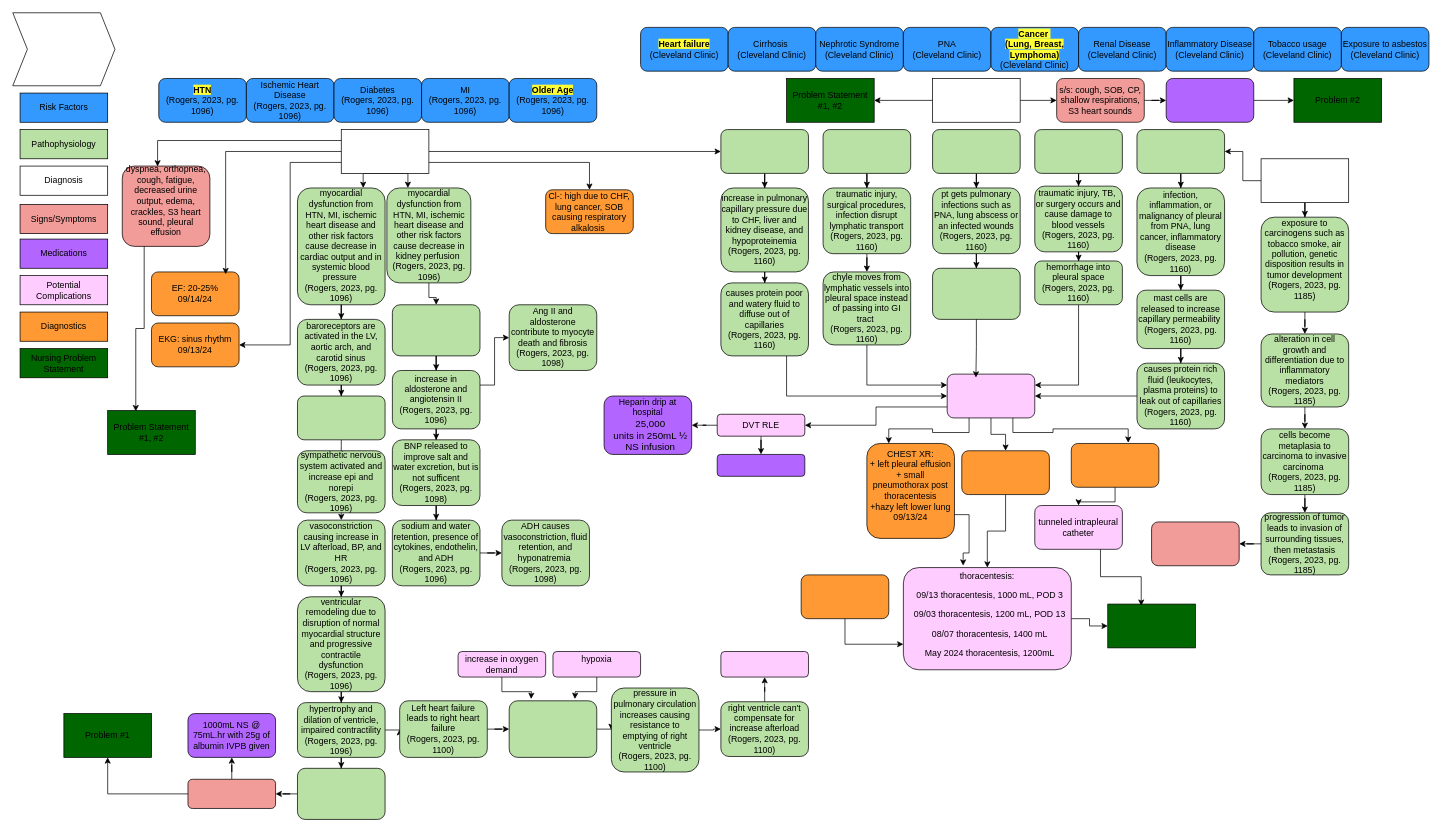
This 1442x833 diagram has some shape labels left out. Each missing label, with the box of its shape:
ADENOCARCINOMA (non-small cell carcinoma): (1260, 158, 1349, 203)
blood / hemothorax (Rogers, 2023, pg. 1160): (1034, 129, 1122, 173)
BP: 94/62: (187, 779, 276, 808)
CHEST XR: +pneumothorax 09/14/24: (961, 450, 1049, 495)
CHEST XR: moderate left pleural effusion 09/16/24: (1071, 443, 1159, 487)
CHF: (341, 129, 429, 173)
chyle / chylothorax (Rogers, 2023, pg. 1160): (822, 129, 911, 173)
debris in infection accumulate in pleural space (Rogers, 2023, pg. 1160): (932, 268, 1020, 319)
decrease cardiac output and perfusion to tissues (Rogers, 2023, pg. 1098): (297, 768, 385, 819)
Eliquis at home for prophylaxis: (716, 454, 805, 476)
exudate (Rogers, 2023, pg. 1160): (1136, 129, 1225, 173)
inadequate blood flow into pulmonary circulation (Rogers, 2023, pg. 1100): (508, 700, 597, 757)
O2 administer @ 2LPM via NC: (1165, 78, 1254, 122)
peripheral edema: (720, 651, 808, 677)
PLEURAL EFFUSION: (932, 78, 1020, 122)
Problem #4, #5: (1107, 603, 1195, 648)
pulmonary edema, blood clots, pneumothorax: (946, 373, 1035, 418)
pus / empyema (Rogers, 2023, pg. 1160): (932, 129, 1020, 173)
R.C. 93 y/o F FULL CODE Admitted: 09/13/24: (12, 12, 115, 86)
renin-angiotensin-aldosterone system activated (Rogers, 2023, pg. 1096): (392, 304, 480, 356)
s/s: dyspnea, hempphytis, wt loss, fatigue, cough, CP: (1151, 521, 1239, 566)
transudate (Rogers, 2023, pg. 1160): (720, 129, 808, 173)
US: pleural effusion 09/13/24: (800, 574, 889, 619)
vasomotor center in medulla activated (Rogers, 2023, pg. 1096): (297, 395, 385, 440)
